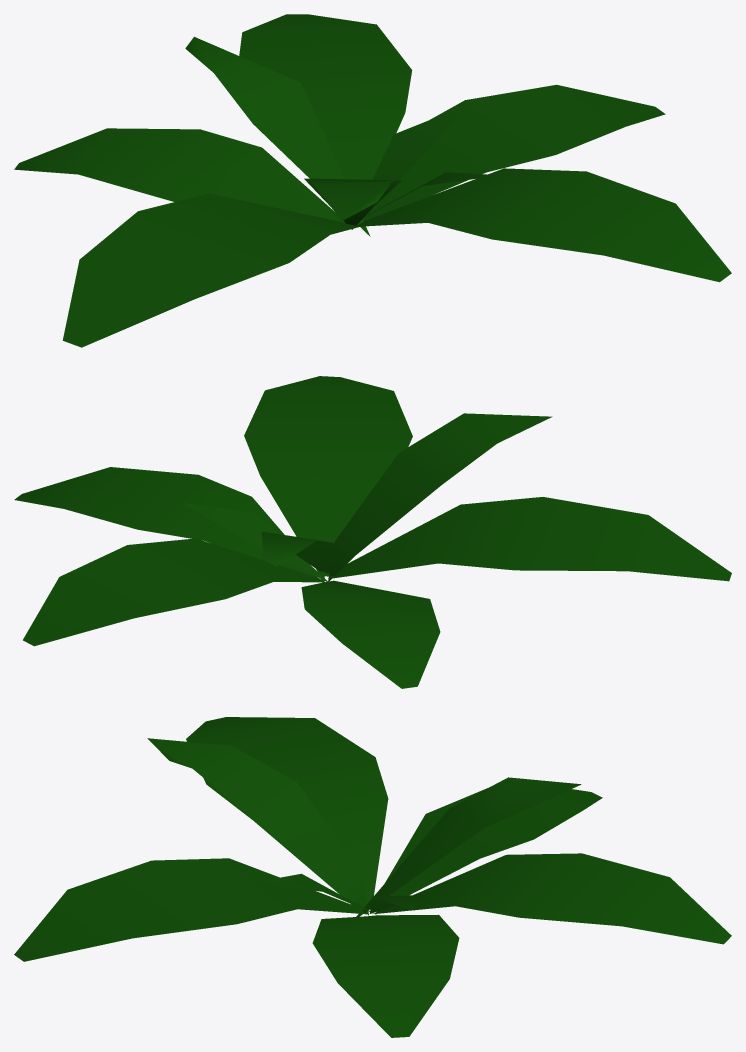
The model's file is Foliage big.fbx.
3 renders of one model, top to bottom at view 1: azimuth 30°, elevation 25°; view 2: azimuth 150°, elevation 25°; view 3: azimuth 270°, elevation 25°, orthographic. The views are drawn at different scales.
Parts seen in each view (by area): view 1: foliage big; view 2: foliage big; view 3: foliage big.
Boxes of the visible parts, <box> form: foliage big: <box>14,14,731,347</box>; foliage big: <box>14,376,731,688</box>; foliage big: <box>14,717,731,1037</box>.
Size of the model in its own units: 126 by 23.26 by 122.
